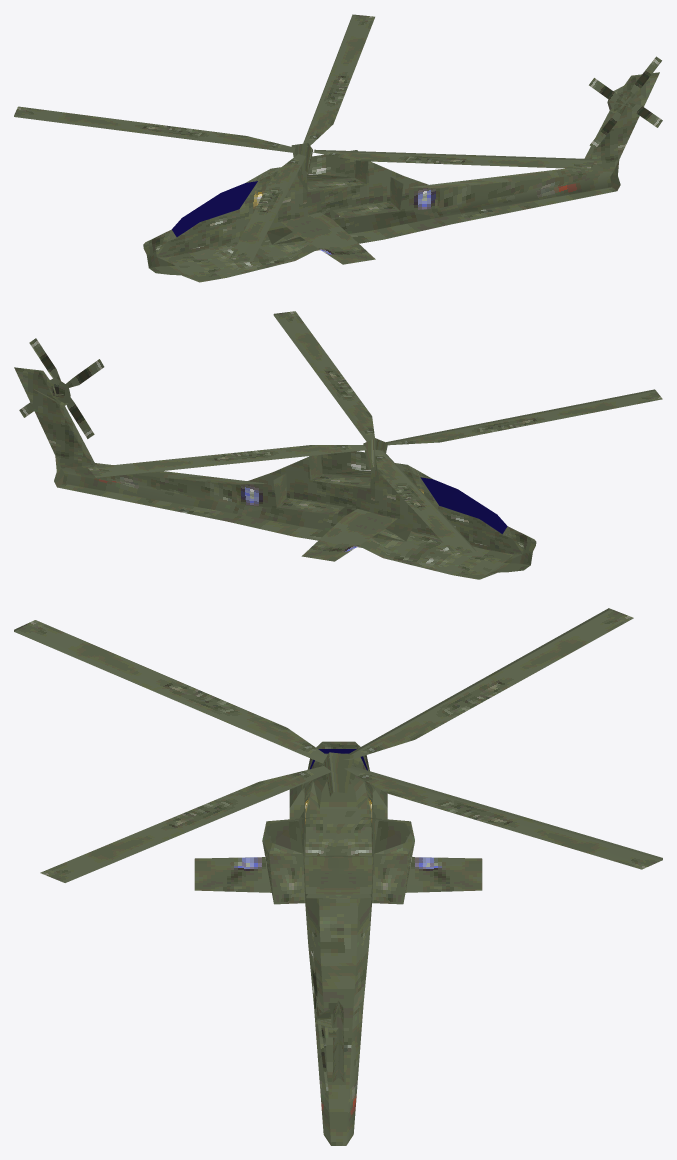
Rendered from ps2_save-icons_operationairassault.glb.
3 renders of one model, top to bottom at view 1: azimuth 30°, elevation 25°; view 2: azimuth 150°, elevation 25°; view 3: azimuth 270°, elevation 25°, orthographic. The views are drawn at different scales.
Parts seen in each view (by area): view 1: Icon.ico; view 2: Icon.ico; view 3: Icon.ico.
Part boxes in pixels (x1=…): Icon.ico: x1=14, y1=14, x2=662, y2=282; Icon.ico: x1=14, y1=311, x2=662, y2=579; Icon.ico: x1=14, y1=608, x2=662, y2=1145.
Size of the model in its own units: 4.18 by 0.9514 by 2.97.
1 material, 1 textured.
